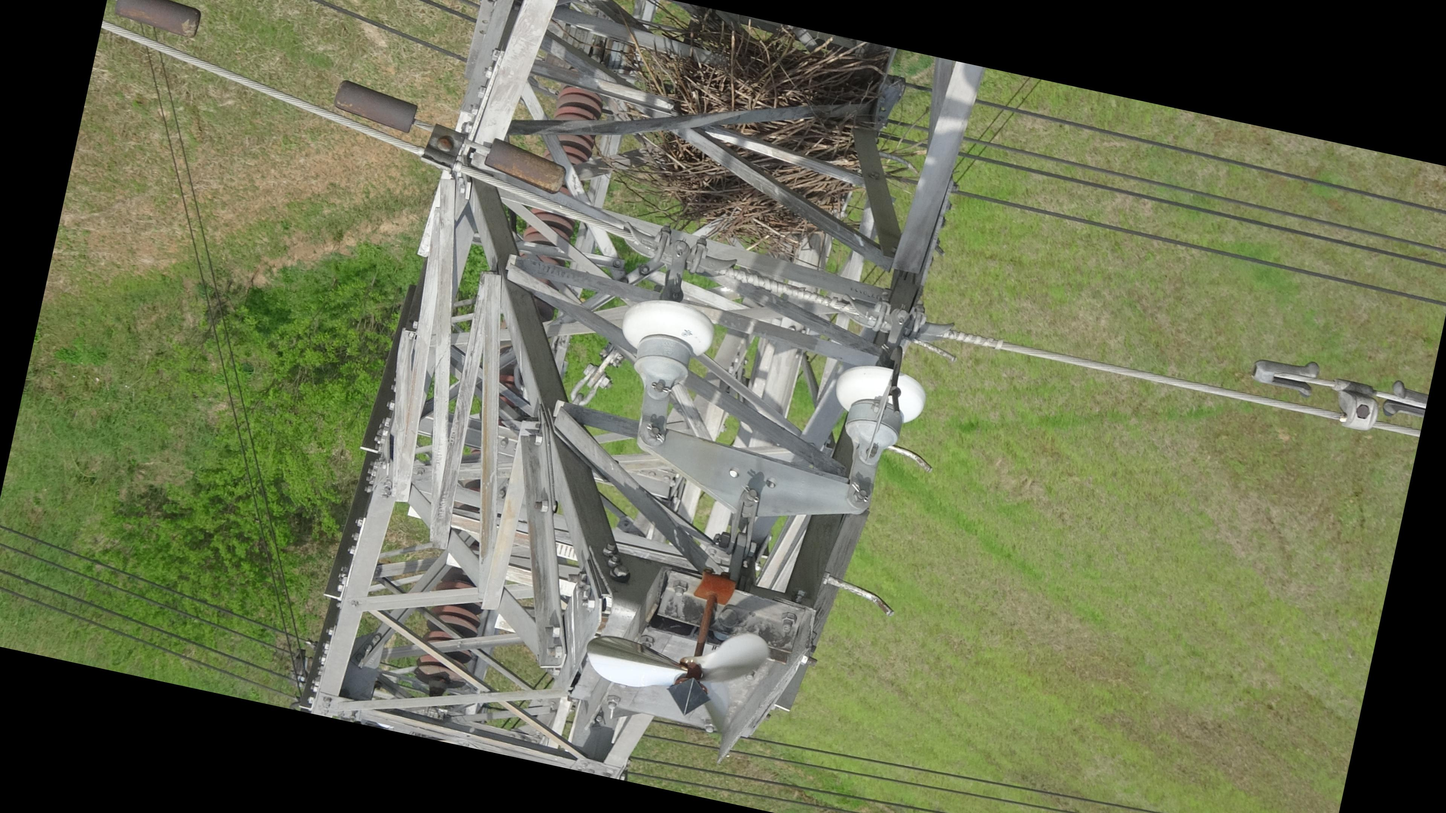damper: (1234, 340, 1432, 452)
damper_defect: (319, 72, 581, 202), (102, 0, 212, 46)
